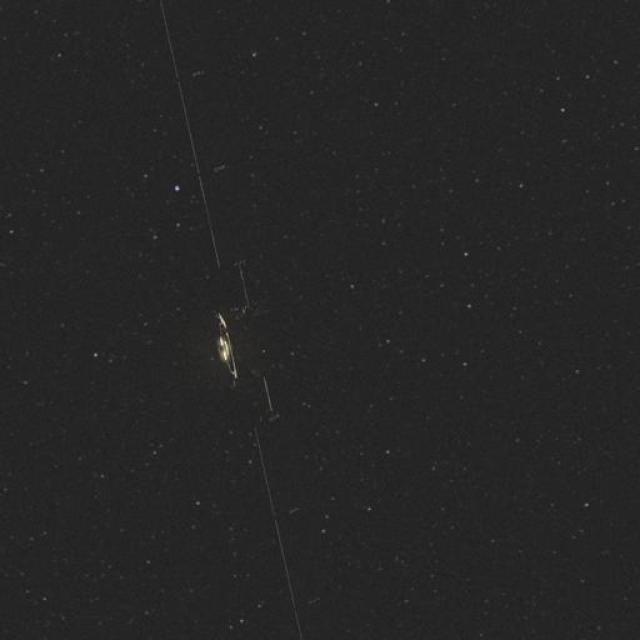smart_1: (167, 152, 290, 518)
